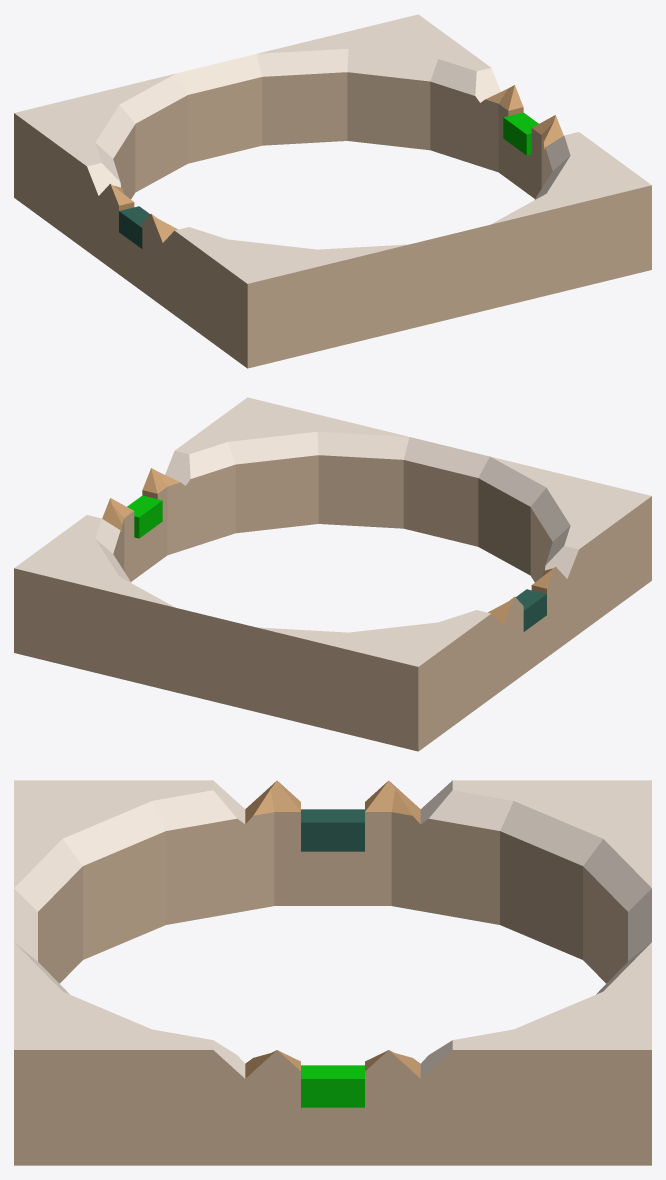
Rendered from Guide_180.glb.
3 renders of one model, top to bottom at view 1: azimuth 30°, elevation 25°; view 2: azimuth 150°, elevation 25°; view 3: azimuth 270°, elevation 25°, orthographic. The views are drawn at different scales.
Visible parts, largest first — view 1: mergedBlocks(Clone); view 2: mergedBlocks(Clone); view 3: mergedBlocks(Clone).
Boxes of the visible parts, box(x1,y1,x2,y2) form: mergedBlocks(Clone): box(14, 14, 651, 368); mergedBlocks(Clone): box(14, 397, 651, 751); mergedBlocks(Clone): box(14, 780, 651, 1165).
Size of the model in its own units: 3 by 0.6 by 3.
